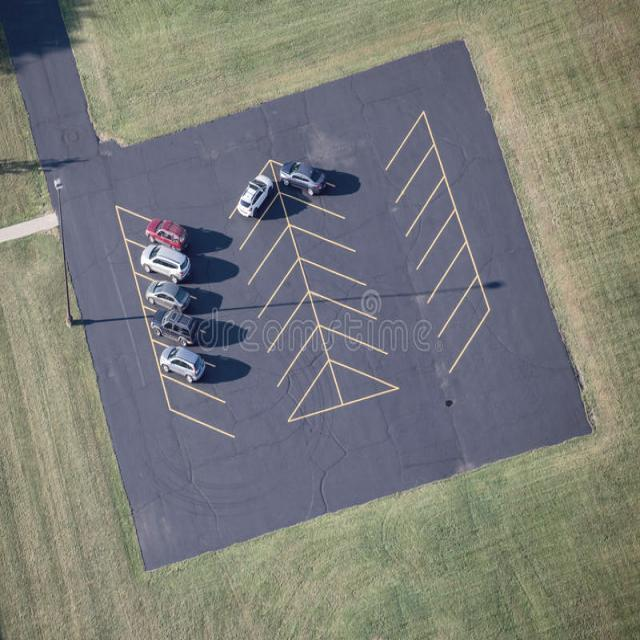space-empty: (161, 365, 248, 447), (410, 201, 469, 312), (273, 324, 335, 428), (246, 213, 305, 322), (267, 282, 322, 395), (393, 139, 449, 247), (406, 167, 460, 275), (438, 269, 490, 379), (291, 221, 370, 291), (426, 239, 480, 341), (259, 253, 310, 357), (309, 289, 389, 355), (386, 106, 436, 209), (328, 359, 407, 412), (286, 358, 349, 422)
space-occupied: (227, 149, 285, 258), (134, 266, 217, 331), (270, 150, 343, 223), (151, 339, 226, 403), (118, 199, 202, 254), (126, 244, 205, 295), (142, 306, 212, 358)
